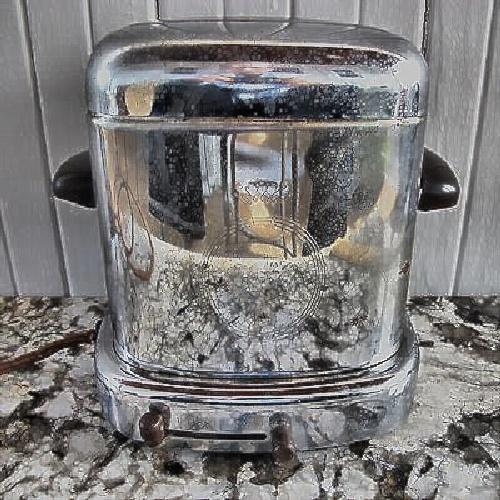toaster: (82, 22, 422, 440)
